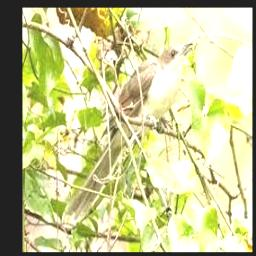Cuckoo: (65, 41, 192, 222)
